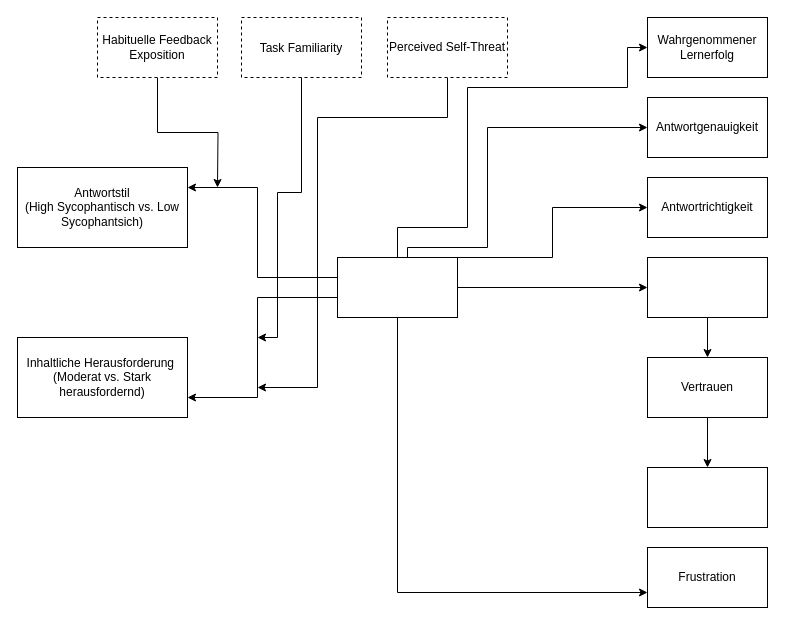
Some shapes in this 785 by 625 pixel diagram are drawn without their labels. Each missing label, with the box of its shape:
Elaboration: (336, 256, 458, 318)
Wahrgenommenes Kompetenzgefühl der KI: (646, 256, 768, 318)
Zukünftige Nutzungsbereitschaft: (646, 466, 768, 528)
